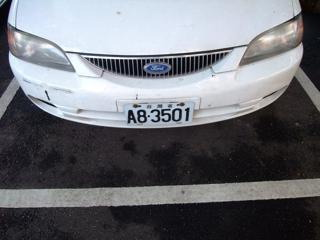plate: (119, 101, 194, 126)
